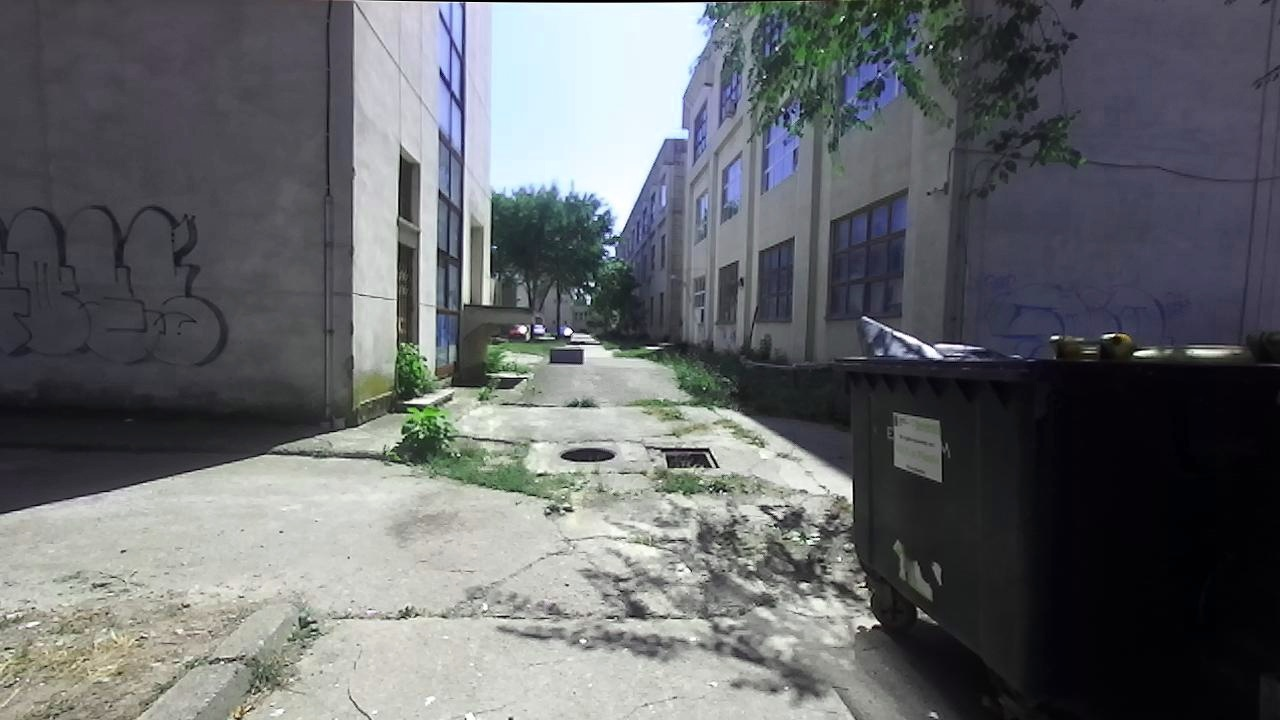drain: (654, 440, 724, 474), (554, 441, 622, 465)
